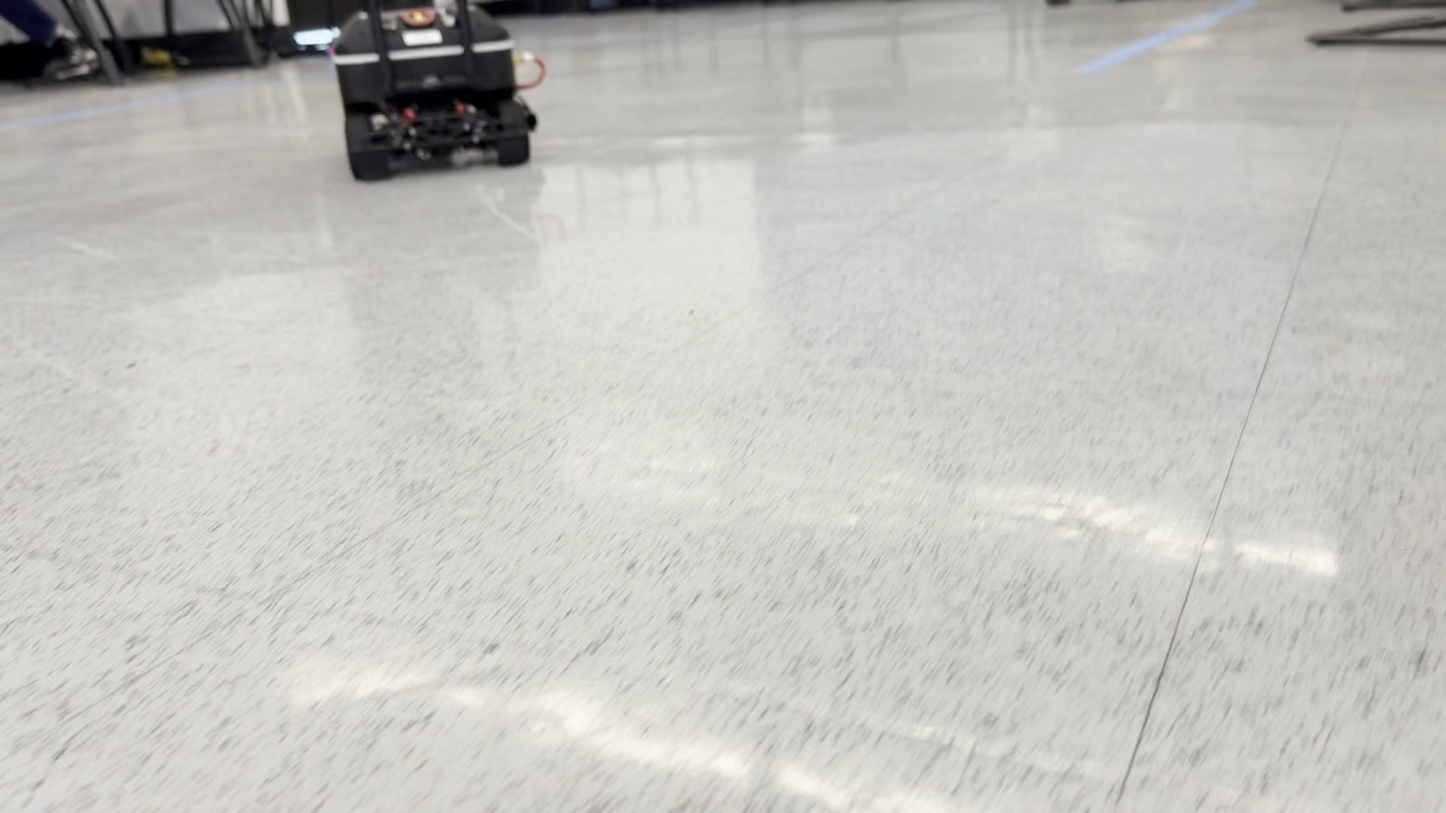racecar: (333, 4, 540, 181)
